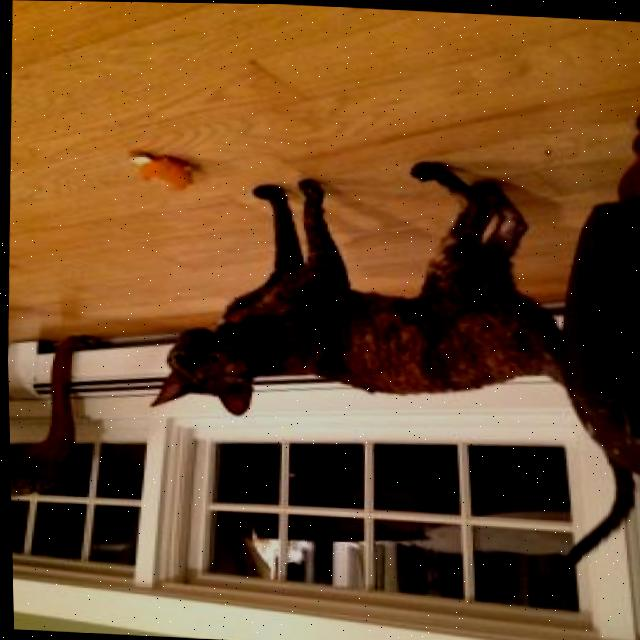Cornish Rex: (140, 141, 640, 575)
